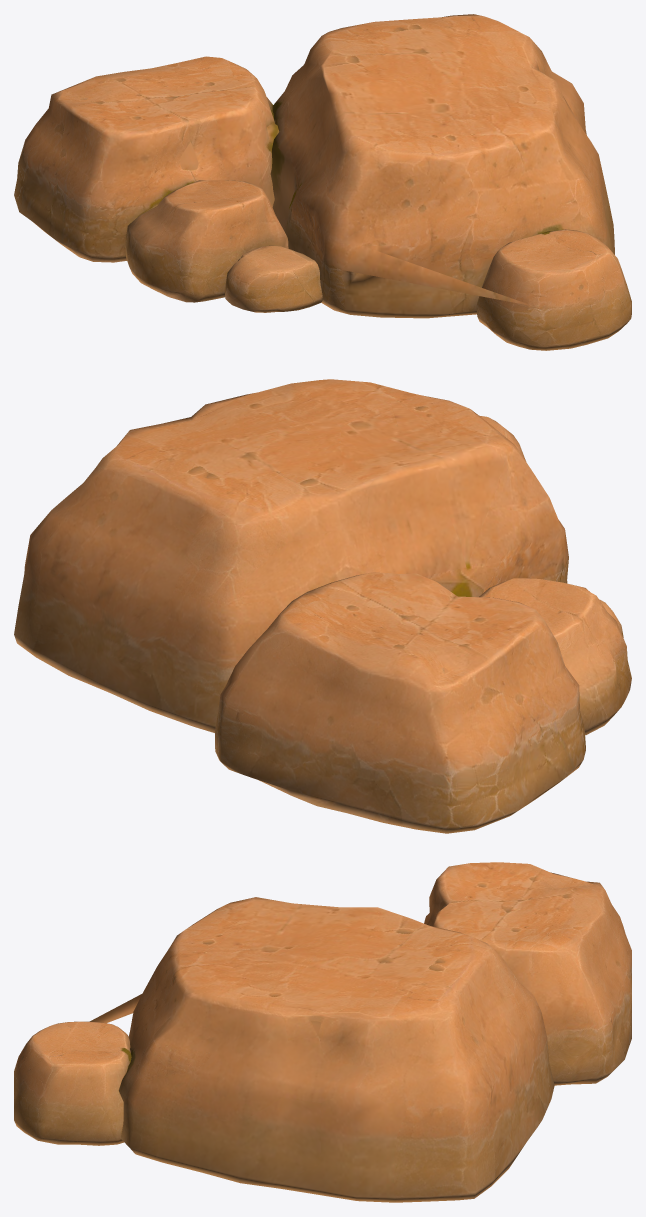
File: shore-rocks.glb
The picture shows the model from 3 angles, top to bottom: view 1: azimuth 30°, elevation 25°; view 2: azimuth 150°, elevation 25°; view 3: azimuth 270°, elevation 25°; orthographic projection. The views are drawn at different scales.
Visible parts, largest first — view 1: shore-rocks_LOD0; view 2: shore-rocks_LOD0; view 3: shore-rocks_LOD0.
Boxes of the visible parts, x1,y1,x2,y2 form: shore-rocks_LOD0: [14, 14, 631, 350]; shore-rocks_LOD0: [14, 379, 631, 833]; shore-rocks_LOD0: [14, 862, 631, 1202].
Size of what is drawn, in the model's own units: 0.919 by 0.298 by 1.
Materials: 1 (1 with a texture image).
